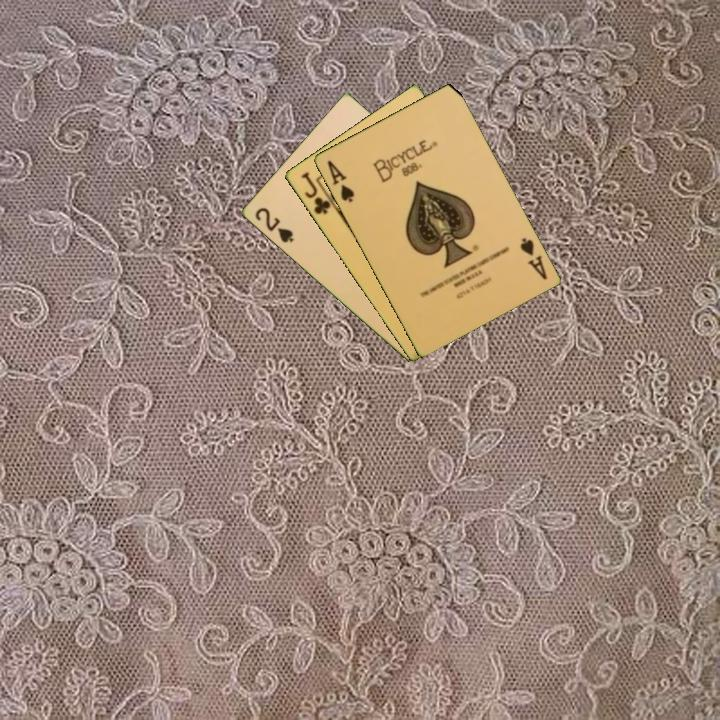2s: (251, 204, 296, 246)
As: (323, 156, 357, 205), (516, 234, 550, 283)
Jc: (297, 168, 333, 217)
